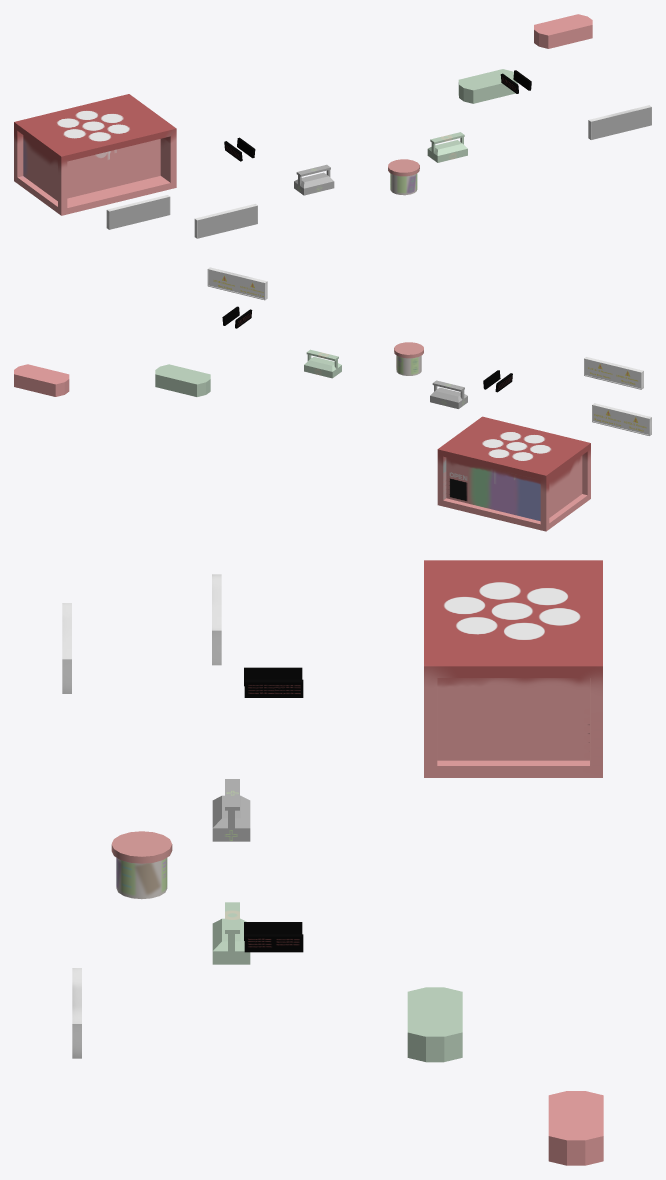
Rendered from textured_objects_color.fbx.
3 renders of one model, top to bottom at view 1: azimuth 30°, elevation 25°; view 2: azimuth 150°, elevation 25°; view 3: azimuth 270°, elevation 25°, orthographic. The views are drawn at different scales.
Visible parts, largest first — view 1: polySurface253, pCube131, pCube140, pCube68, pCube137, pCube139, polySurface254, polySurface249, polySurface245; view 2: polySurface253, pCube131, pCube68, pCube137, pCube139, pCube140, polySurface254, polySurface245, polySurface249; view 3: polySurface253, pCube68, pCube131, polySurface254, polySurface249, polySurface245, polySurface263, polySurface266, pCube140, pCube137, pCube139.
Part boxes in pixels (box(x1,y1,x2,y2)): polySurface253: box(14, 94, 176, 215); pCube131: box(534, 14, 592, 48); pCube140: box(106, 195, 170, 229); pCube68: box(458, 69, 517, 103); pCube137: box(588, 105, 651, 139); pCube139: box(194, 203, 257, 238); polySurface254: box(388, 159, 419, 195); polySurface249: box(294, 172, 334, 195); polySurface245: box(427, 140, 467, 162); polySurface253: box(437, 416, 590, 531); pCube131: box(14, 364, 69, 396); pCube68: box(155, 364, 210, 396); pCube137: box(207, 267, 267, 300); pCube139: box(584, 357, 643, 389); pCube140: box(592, 403, 651, 435); polySurface254: box(394, 342, 423, 375); polySurface245: box(304, 357, 341, 378); polySurface249: box(430, 387, 467, 408); polySurface253: box(424, 560, 602, 777); pCube68: box(407, 987, 462, 1062); pCube131: box(548, 1091, 603, 1165); polySurface254: box(111, 831, 172, 899); polySurface249: box(212, 795, 250, 841); polySurface245: box(212, 918, 250, 964); polySurface263: box(244, 679, 303, 697); polySurface266: box(244, 934, 303, 952); pCube140: box(212, 574, 221, 665); pCube137: box(72, 968, 81, 1058); pCube139: box(62, 603, 71, 693).
Size of the model in its own units: 13038 by 1428 by 5611.
Materials: 3 (3 with a texture image).
